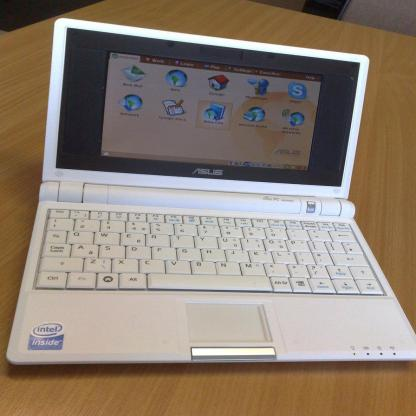board: (4, 17, 415, 364)
